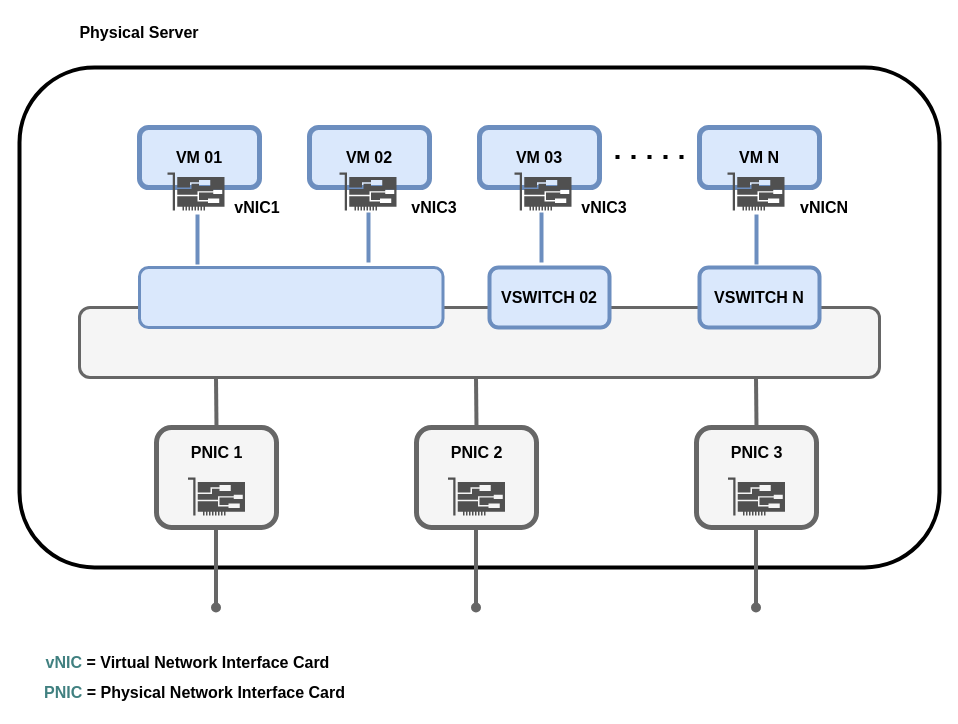
Image size: 958x724. Some labels were removed from this diagram. Here are the shapes that lost their labels. From the top down, the centre of each, then its label:
point (291, 297): VSWITCH 01
point (479, 342): HYPERVISOR TIPO1
